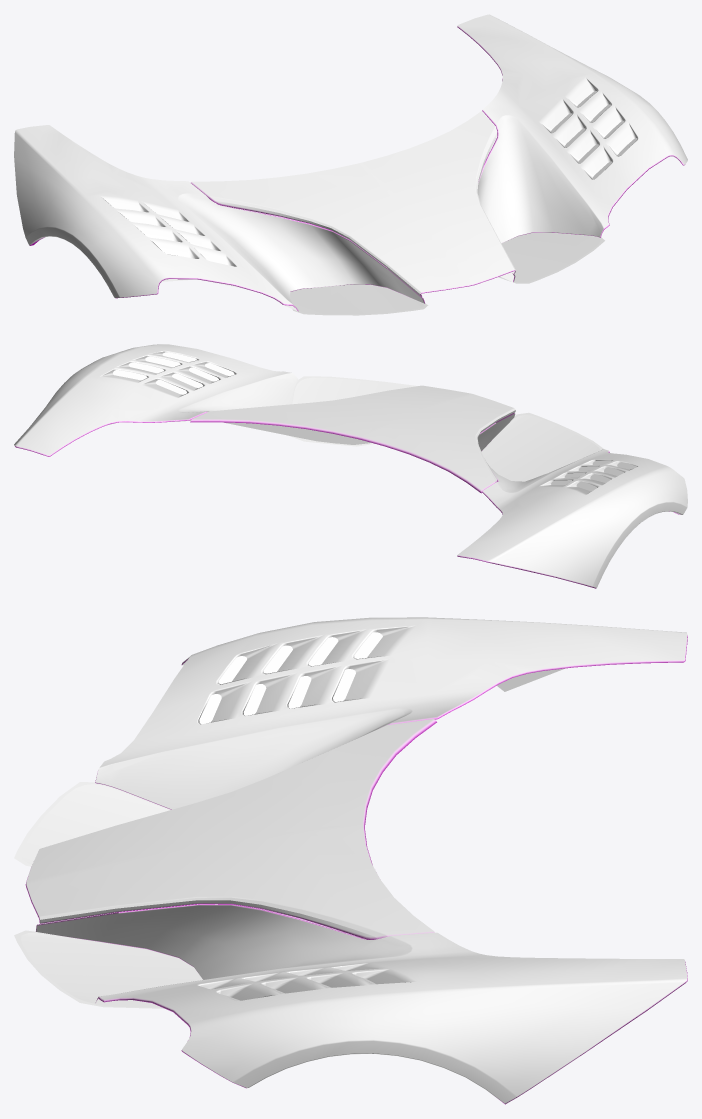
Rendered from Car_Ford_GT_2017_Hood_SetC.fbx.
3 renders of one model, top to bottom at view 1: azimuth 30°, elevation 25°; view 2: azimuth 150°, elevation 25°; view 3: azimuth 270°, elevation 25°, orthographic. The views are drawn at different scales.
Visible parts, largest first — view 1: Hood 6; view 2: Hood 6; view 3: Hood 6.
Part boxes in pixels (x1,y1,x2,y2): Hood 6: (14, 14, 687, 315); Hood 6: (14, 344, 687, 588); Hood 6: (14, 617, 687, 1104).
Bounding box in the file's own units: 1.96 × 0.2591 × 1.33.
